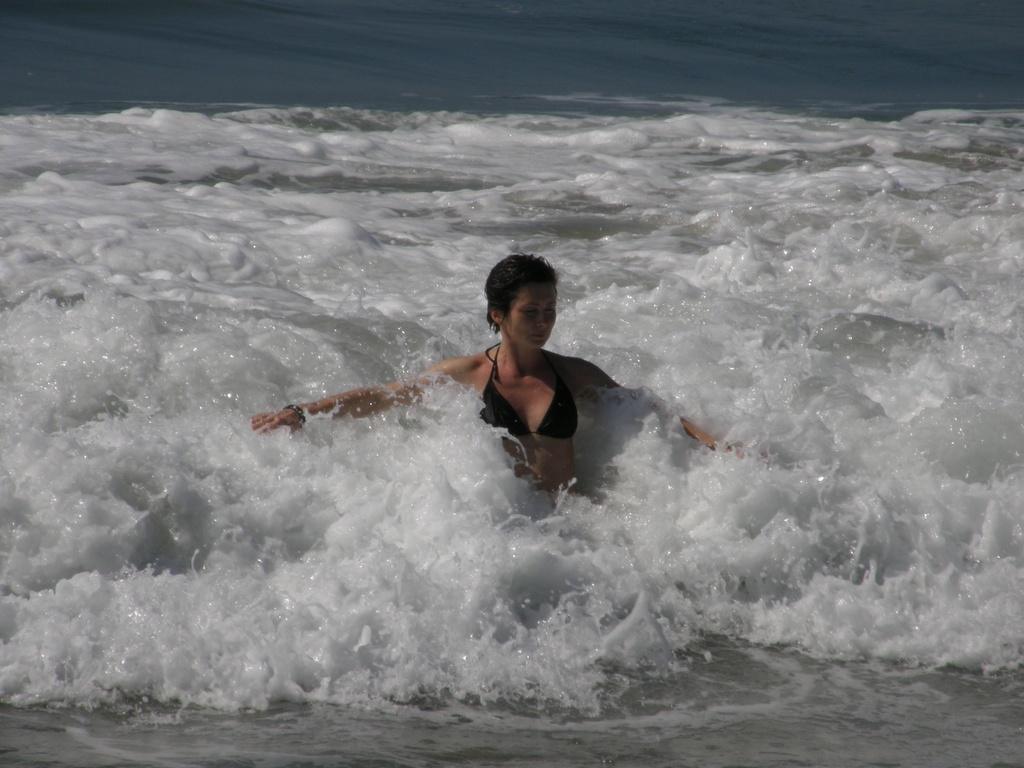face: (504, 283, 559, 346)
